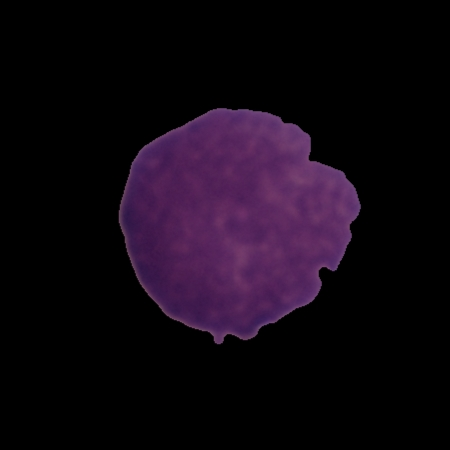HEM: (113, 104, 364, 347)
